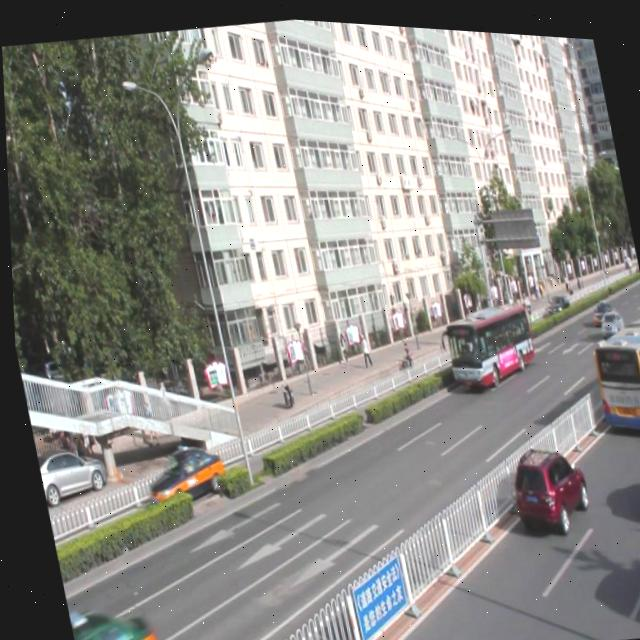car: (500, 432, 589, 532), (138, 438, 226, 510), (64, 605, 159, 640), (632, 430, 640, 513), (637, 499, 640, 620)
van: (437, 291, 535, 384), (582, 300, 640, 425)
